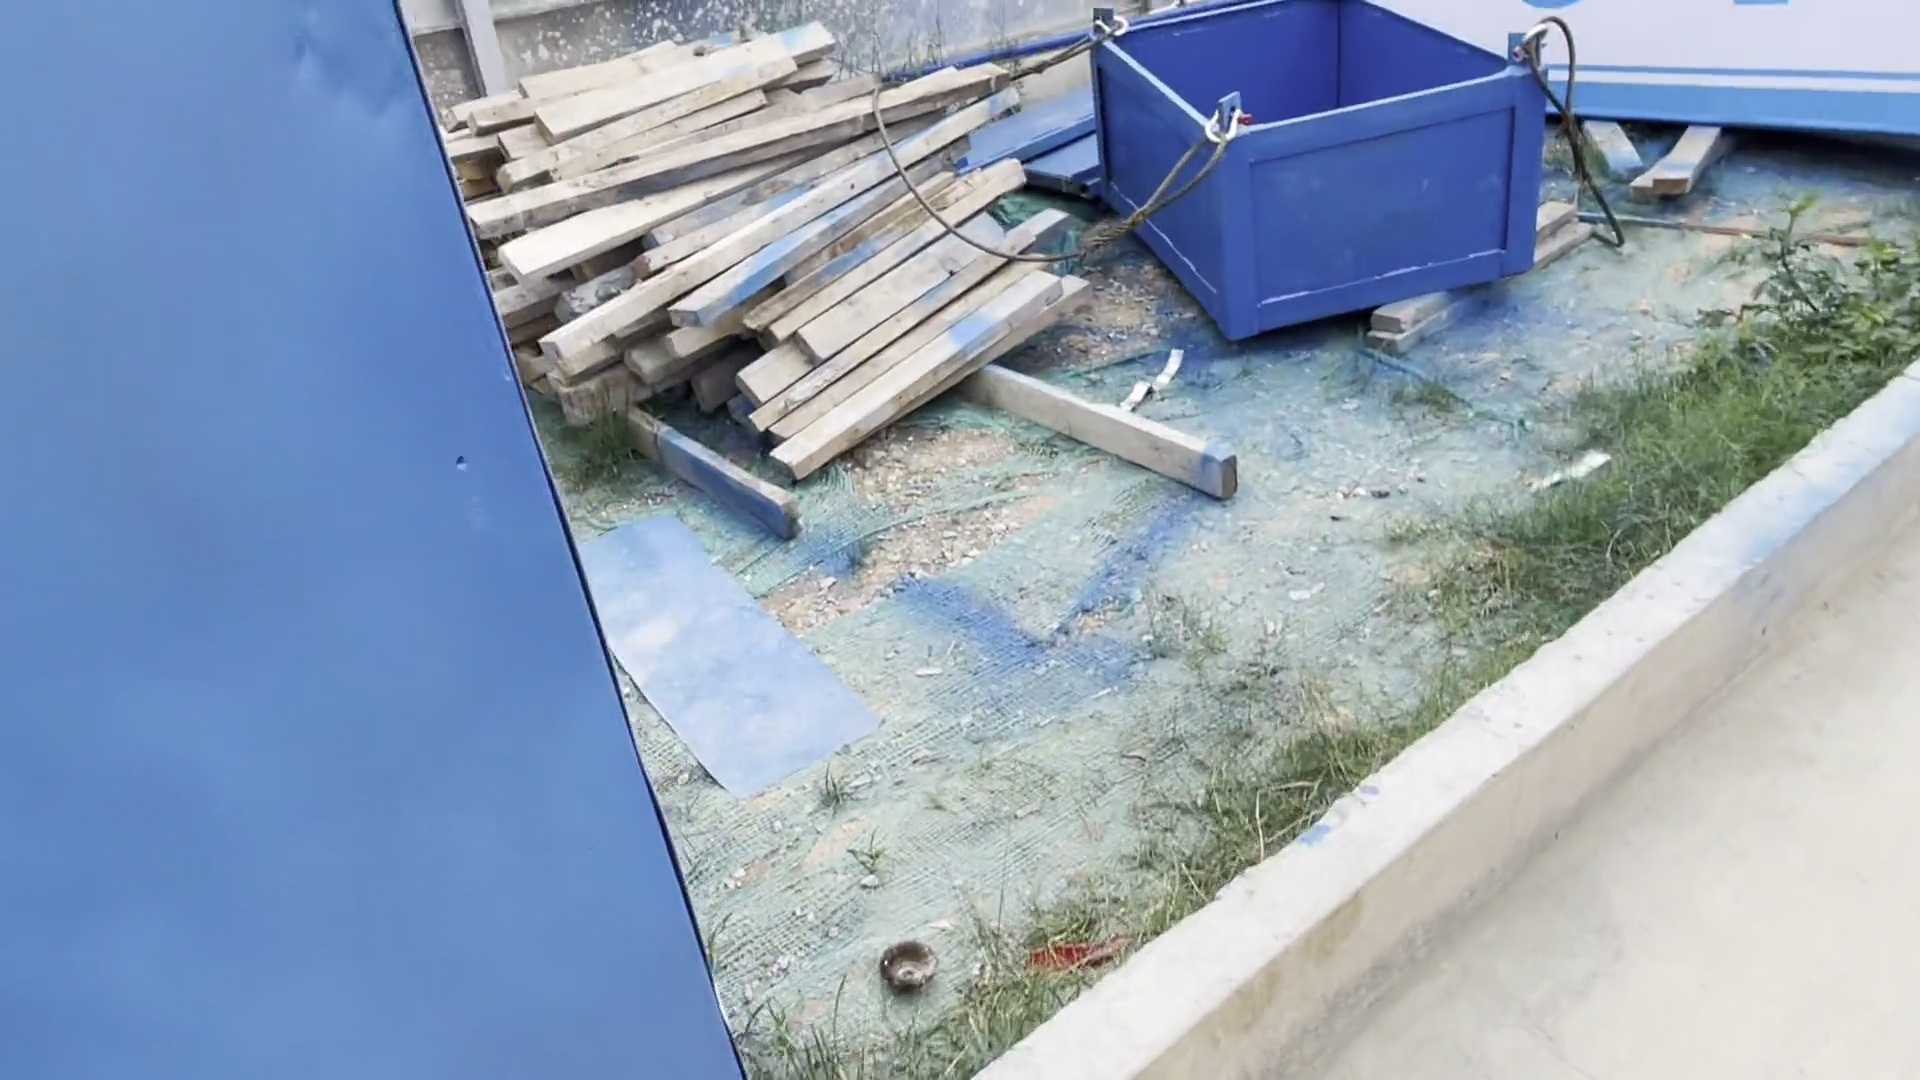hopper: (1093, 3, 1578, 334)
wood: (444, 26, 1125, 450)
